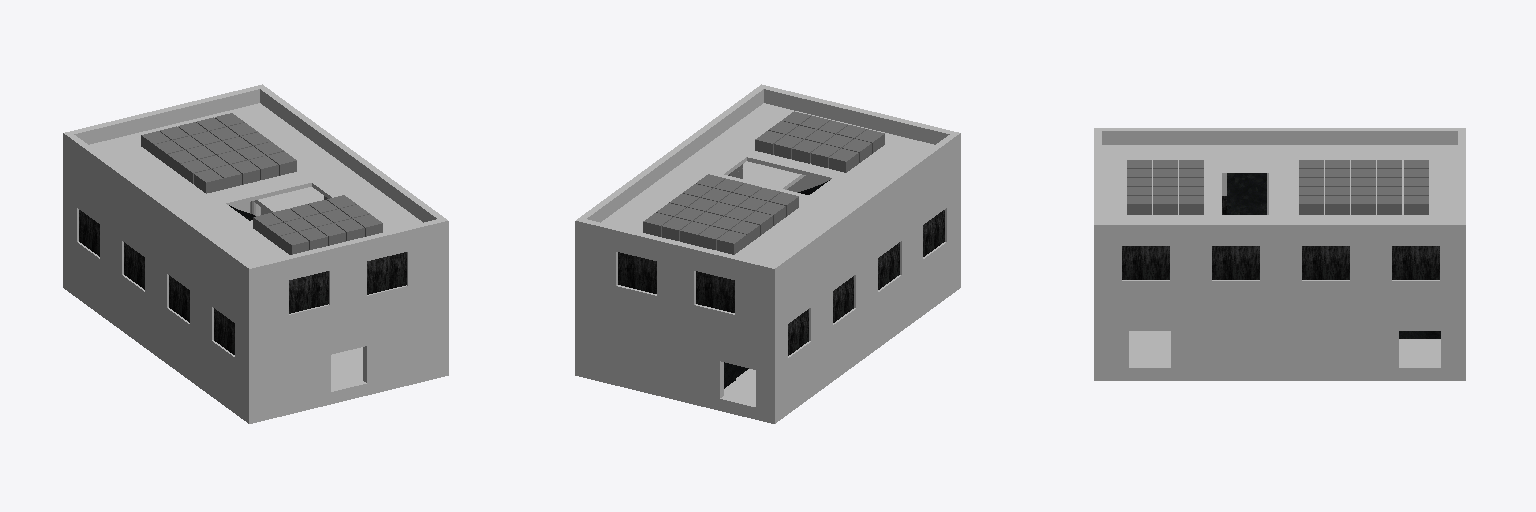
3 views of the same model, side by side, from view 1: azimuth 30°, elevation 25°; view 2: azimuth 150°, elevation 25°; view 3: azimuth 270°, elevation 25° (orthographic).
Parts seen in each view (by area): view 1: BuildingExterior_Cube.001, Roof_Cube.007, CardboardBox_LP.005_Mesh.012, CardboardBox_LP.004_Mesh.011, Window.004_Cube.031, Window.003_Cube.030, BottomFloor_Cube.040, SecondFloor_Cube.003, Window.006_Cube.033, Window.007_Cube.034, Window.008_Cube.035, Window_Cube.027; view 2: BuildingExterior_Cube.001, Roof_Cube.007, CardboardBox_LP.005_Mesh.012, CardboardBox_LP.004_Mesh.011, Window.002_Cube.029, Window.005_Cube.032, SecondFloor_Cube.003, BottomFloor_Cube.040, Window_Cube.027, Window.008_Cube.035, Window.007_Cube.034, Window.006_Cube.033; view 3: BuildingExterior_Cube.001, Roof_Cube.007, CardboardBox_LP.005_Mesh.012, CardboardBox_LP.004_Mesh.011, BottomFloor_Cube.040, RoofRamp_Cube.006, Window.009_Cube.036, Window.010_Cube.037, Window.011_Cube.038, Window.012_Cube.039.
Boxes of the visible parts, x1,y1,x2,y2 form: BuildingExterior_Cube.001: [63, 84, 448, 423]; Roof_Cube.007: [89, 103, 422, 263]; CardboardBox_LP.005_Mesh.012: [141, 113, 296, 193]; CardboardBox_LP.004_Mesh.011: [253, 195, 382, 254]; Window.004_Cube.031: [367, 252, 406, 294]; Window.003_Cube.030: [289, 271, 328, 313]; BottomFloor_Cube.040: [331, 347, 362, 387]; SecondFloor_Cube.003: [254, 187, 323, 212]; Window.006_Cube.033: [79, 210, 99, 256]; Window.007_Cube.034: [124, 242, 144, 289]; Window.008_Cube.035: [169, 275, 189, 322]; Window_Cube.027: [214, 308, 234, 354]; BuildingExterior_Cube.001: [575, 84, 960, 423]; Roof_Cube.007: [601, 103, 934, 263]; CardboardBox_LP.005_Mesh.012: [643, 174, 798, 254]; CardboardBox_LP.004_Mesh.011: [755, 111, 884, 172]; Window.002_Cube.029: [696, 271, 734, 312]; Window.005_Cube.032: [618, 252, 656, 293]; SecondFloor_Cube.003: [743, 161, 805, 189]; BottomFloor_Cube.040: [724, 369, 755, 402]; Window_Cube.027: [923, 210, 944, 256]; Window.008_Cube.035: [878, 242, 899, 289]; Window.007_Cube.034: [833, 276, 853, 322]; Window.006_Cube.033: [788, 309, 808, 355]; BuildingExterior_Cube.001: [1094, 128, 1465, 380]; Roof_Cube.007: [1102, 145, 1457, 221]; CardboardBox_LP.005_Mesh.012: [1299, 160, 1428, 214]; CardboardBox_LP.004_Mesh.011: [1127, 160, 1203, 214]; BottomFloor_Cube.040: [1129, 331, 1440, 364]; RoofRamp_Cube.006: [1227, 173, 1266, 214]; Window.009_Cube.036: [1122, 246, 1169, 279]; Window.010_Cube.037: [1212, 246, 1259, 279]; Window.011_Cube.038: [1302, 246, 1349, 279]; Window.012_Cube.039: [1392, 246, 1439, 279].
Bounding box in the file's own units: 13.9 × 10.57 × 22.49.
Materials: 10 (3 with a texture image).